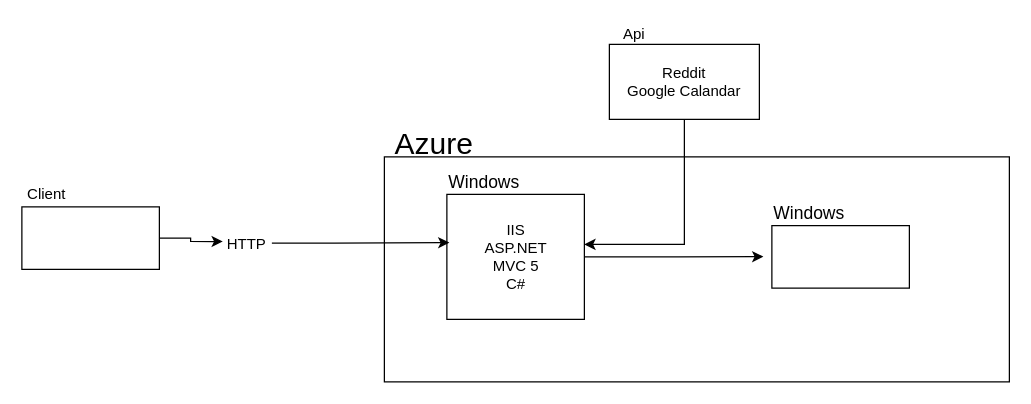
Image size: 1031x404. Some labels were removed from this diagram. The centre of each missing label's shape, as x and y in pixels:
Browsers Javascript: [90,237]
SQL Server: [840,256]
